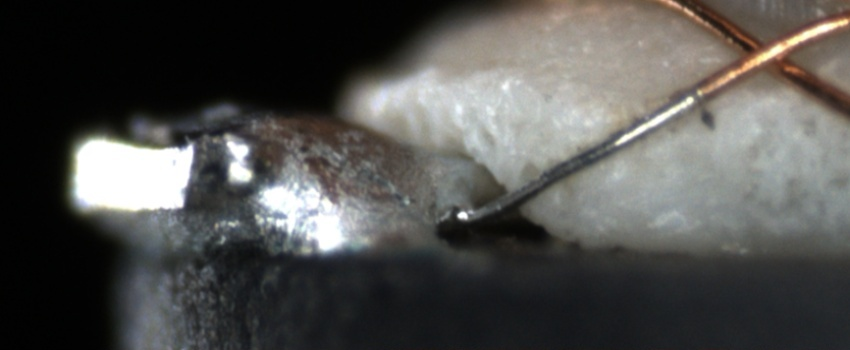CL: (720, 22, 814, 86)
DL: (554, 78, 795, 126)
TS: (453, 88, 704, 224)
